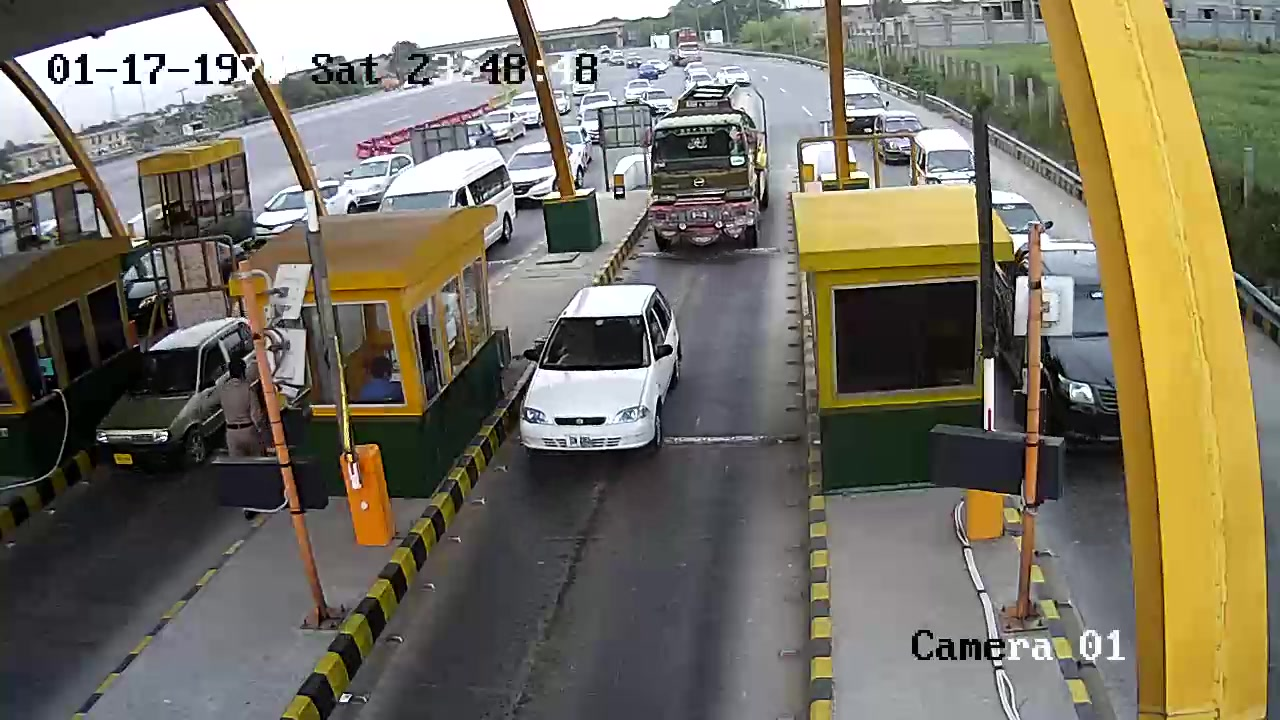F1: (509, 272, 705, 470)
